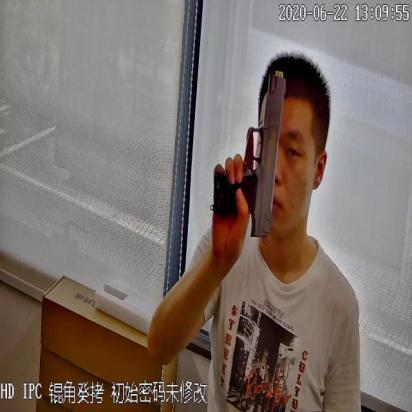Gun: (207, 67, 284, 243)
